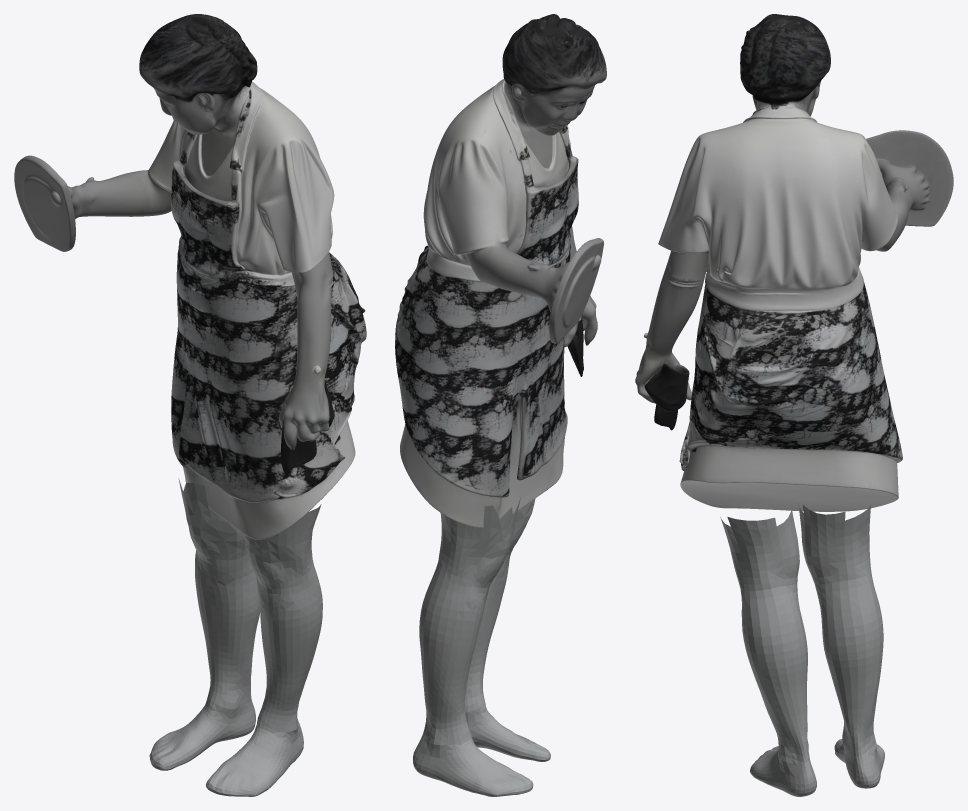
Rendered from person-layer-person-1.glb.
3 renders of one model, left to right at view 1: azimuth 30°, elevation 25°; view 2: azimuth 150°, elevation 25°; view 3: azimuth 270°, elevation 25°, orthographic. The views are drawn at different scales.
Visible parts, largest first — view 1: material, legs_from_body; view 2: material, legs_from_body; view 3: material, legs_from_body.
Part boxes in pixels (left/top/right/bottom): material: left=14, top=14, right=366, bottom=539; legs_from_body: left=149, top=478, right=322, bottom=796; material: left=395, top=14, right=606, bottom=527; legs_from_body: left=413, top=496, right=550, bottom=796; material: left=635, top=14, right=953, bottom=511; legs_from_body: left=720, top=503, right=884, bottom=796.
Bounding box in the file's own units: 0.5123 × 1.57 × 0.6124.
Materials: 2 (1 with a texture image).
